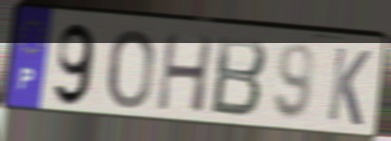9: (52, 21, 100, 109), (272, 41, 318, 123)
B: (208, 34, 270, 121)
H: (154, 31, 216, 116)
K: (324, 44, 373, 129)
O: (106, 27, 156, 112)
